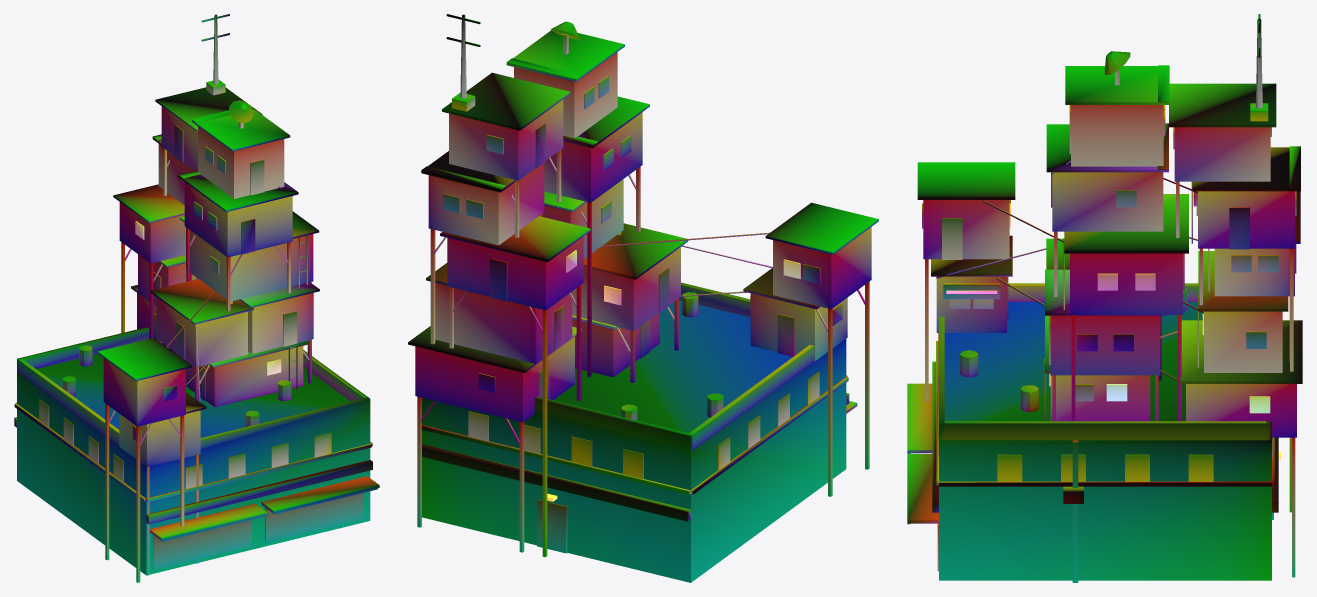
Rendered from Slum_Tower_V2.fbx.
The picture shows the model from 3 angles, left to right: view 1: azimuth 30°, elevation 25°; view 2: azimuth 150°, elevation 25°; view 3: azimuth 270°, elevation 25°; orthographic projection. The views are drawn at different scales.
Parts seen in each view (by area): view 1: Slum_Tower_V2_LOD0; view 2: Slum_Tower_V2_LOD0; view 3: Slum_Tower_V2_LOD0.
Part boxes in pixels (x1,y1,x2,y2): Slum_Tower_V2_LOD0: (14,14,379,582); Slum_Tower_V2_LOD0: (408,14,878,582); Slum_Tower_V2_LOD0: (907,14,1302,582).
Size of what is drawn, in the model's own units: 16.44 by 26.27 by 17.36.
